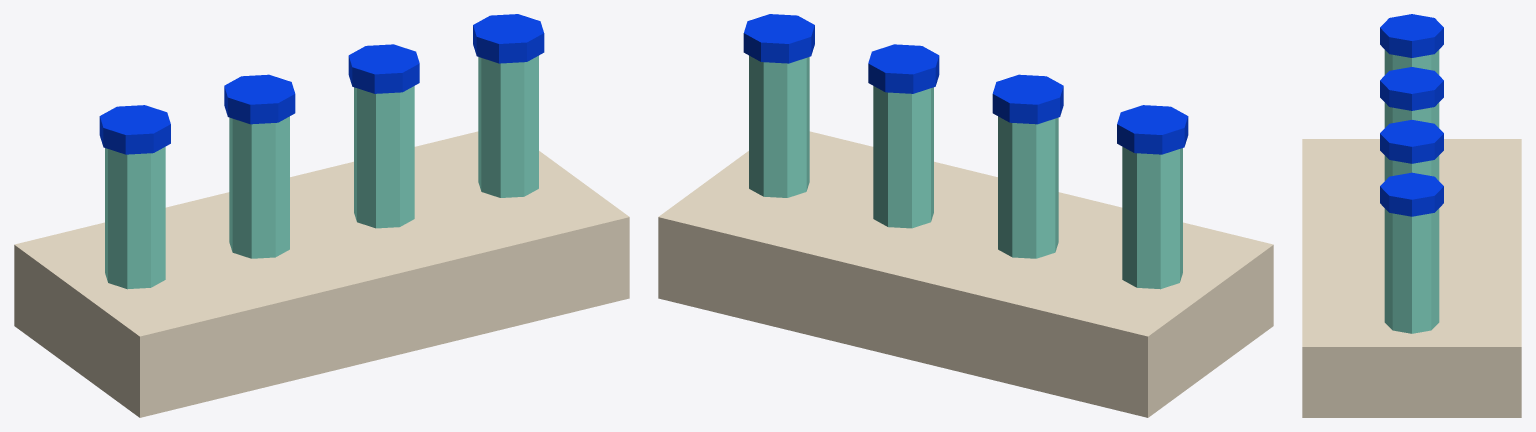
The picture shows the model from 3 angles, left to right: view 1: azimuth 30°, elevation 25°; view 2: azimuth 150°, elevation 25°; view 3: azimuth 270°, elevation 25°; orthographic projection. The views are drawn at different scales.
Parts seen in each view (by area): view 1: Sample rack, Lab vial.002, Lab vial, Lab vial.003, Lab vial.001, Vial lid.002, Vial lid, Vial lid.003, Vial lid.001; view 2: Sample rack, Lab vial.002, Lab vial, Lab vial.003, Lab vial.001, Vial lid.002, Vial lid, Vial lid.003, Vial lid.001; view 3: Sample rack, Lab vial.003, Vial lid, Vial lid.001, Vial lid.003, Vial lid.002, Lab vial.001, Lab vial.002, Lab vial.
Boxes of the visible parts, x1,y1,x2,y2 form: Sample rack: (14,131,629,417); Lab vial.002: (354,86,414,228); Lab vial: (105,147,165,289); Lab vial.003: (478,55,538,197); Lab vial.001: (229,116,289,258); Vial lid.002: (348,44,419,93); Vial lid: (99,105,170,154); Vial lid.003: (473,14,544,63); Vial lid.001: (224,74,295,124); Sample rack: (658,131,1273,417); Lab vial.002: (873,86,933,228); Lab vial: (1122,147,1182,289); Lab vial.003: (749,55,809,197); Lab vial.001: (998,116,1058,258); Vial lid.002: (868,44,939,93); Vial lid: (1117,105,1188,154); Vial lid.003: (743,14,814,63); Vial lid.001: (992,74,1063,124); Sample rack: (1302,139,1521,417); Lab vial.003: (1384,208,1439,333); Vial lid: (1380,14,1443,57); Vial lid.001: (1380,67,1443,110); Vial lid.003: (1380,172,1443,216); Vial lid.002: (1380,120,1443,163); Lab vial.001: (1384,102,1439,127); Lab vial.002: (1384,155,1439,180); Lab vial: (1384,50,1439,74).
Bounding box in the file's own units: 63 × 29.2 × 28.
